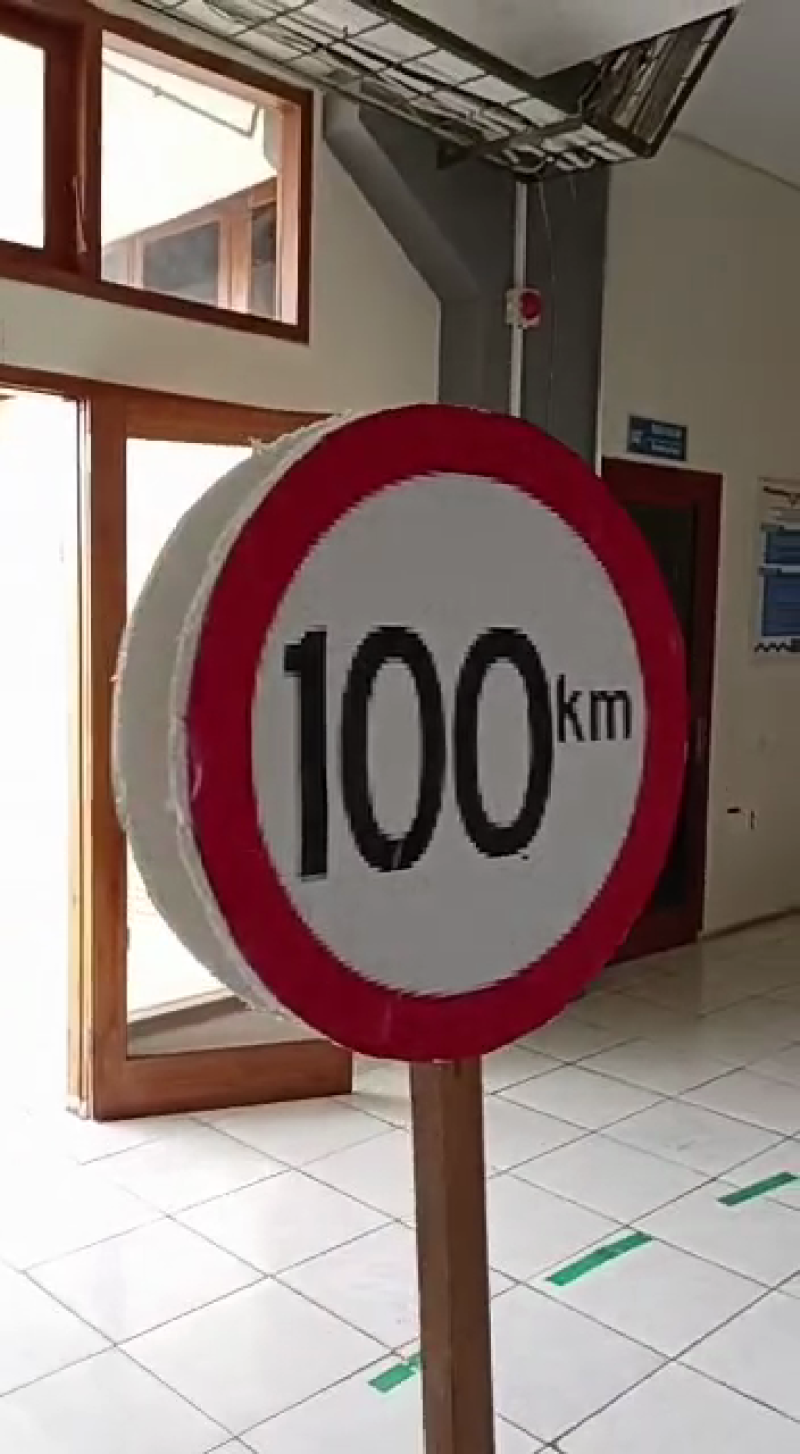batas maksimal 100kmperjam: (168, 383, 703, 1057)
